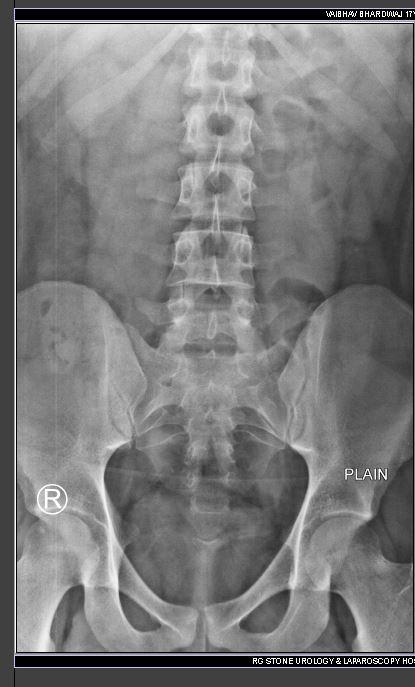vertebrae: (181, 40, 251, 92)
